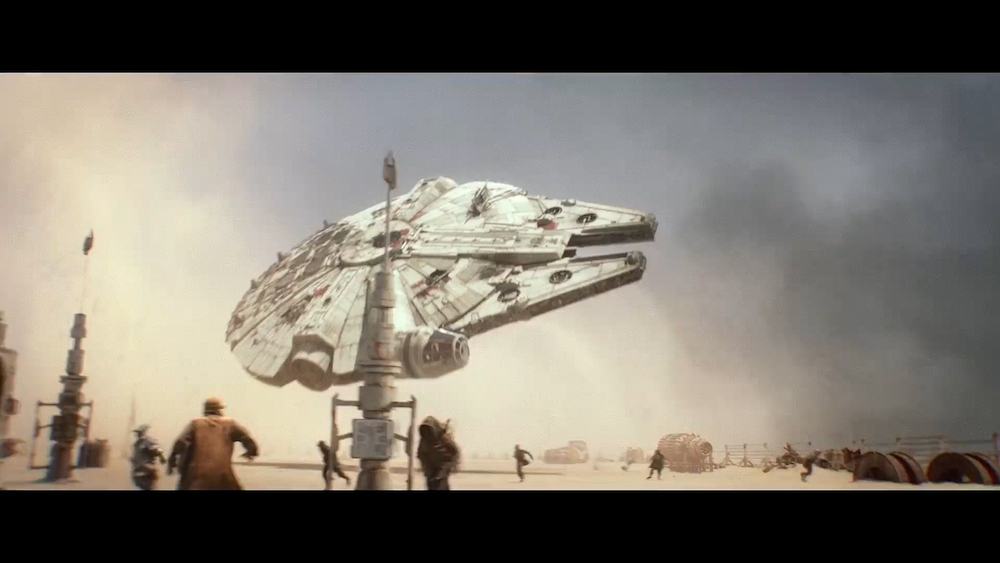Millennium Falcon: (226, 179, 659, 391)
